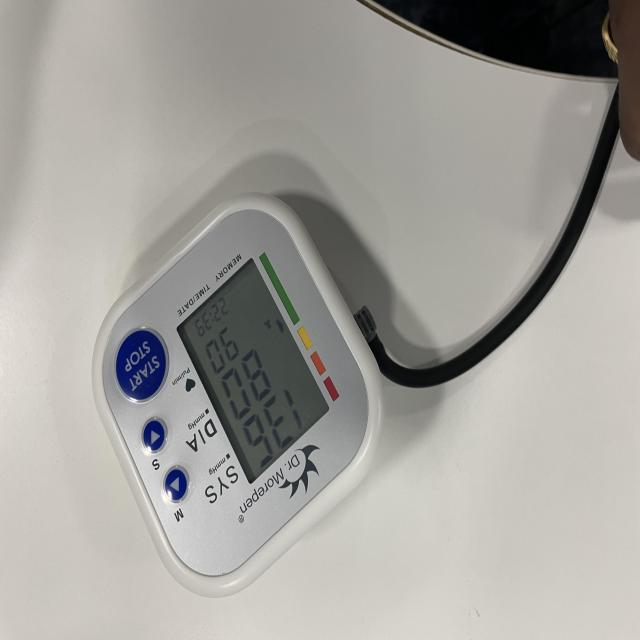bp: (90, 199, 381, 600)
